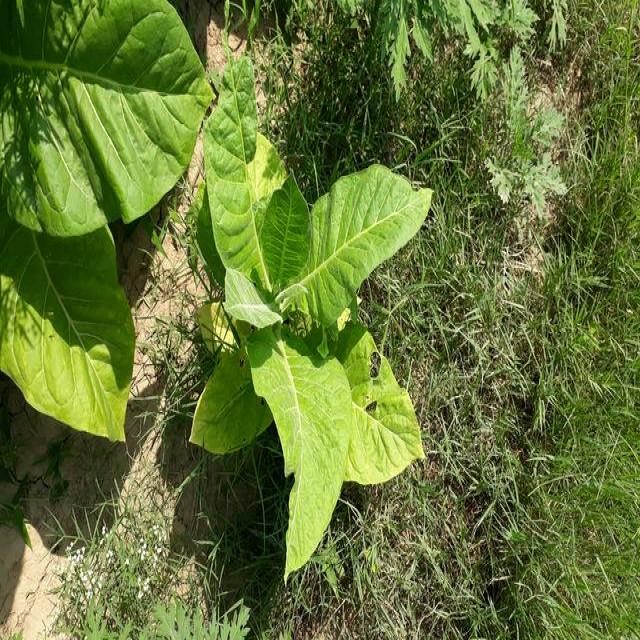crop: (186, 61, 432, 560), (2, 0, 210, 423)
